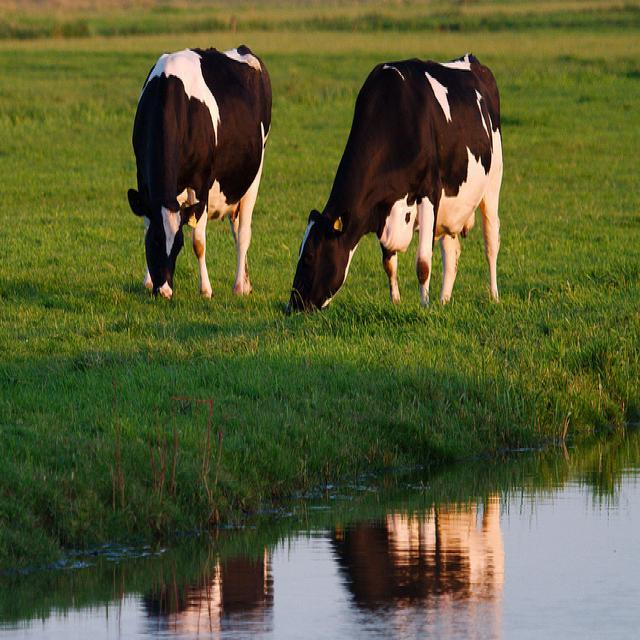cow: (286, 42, 508, 315), (123, 36, 276, 300)
